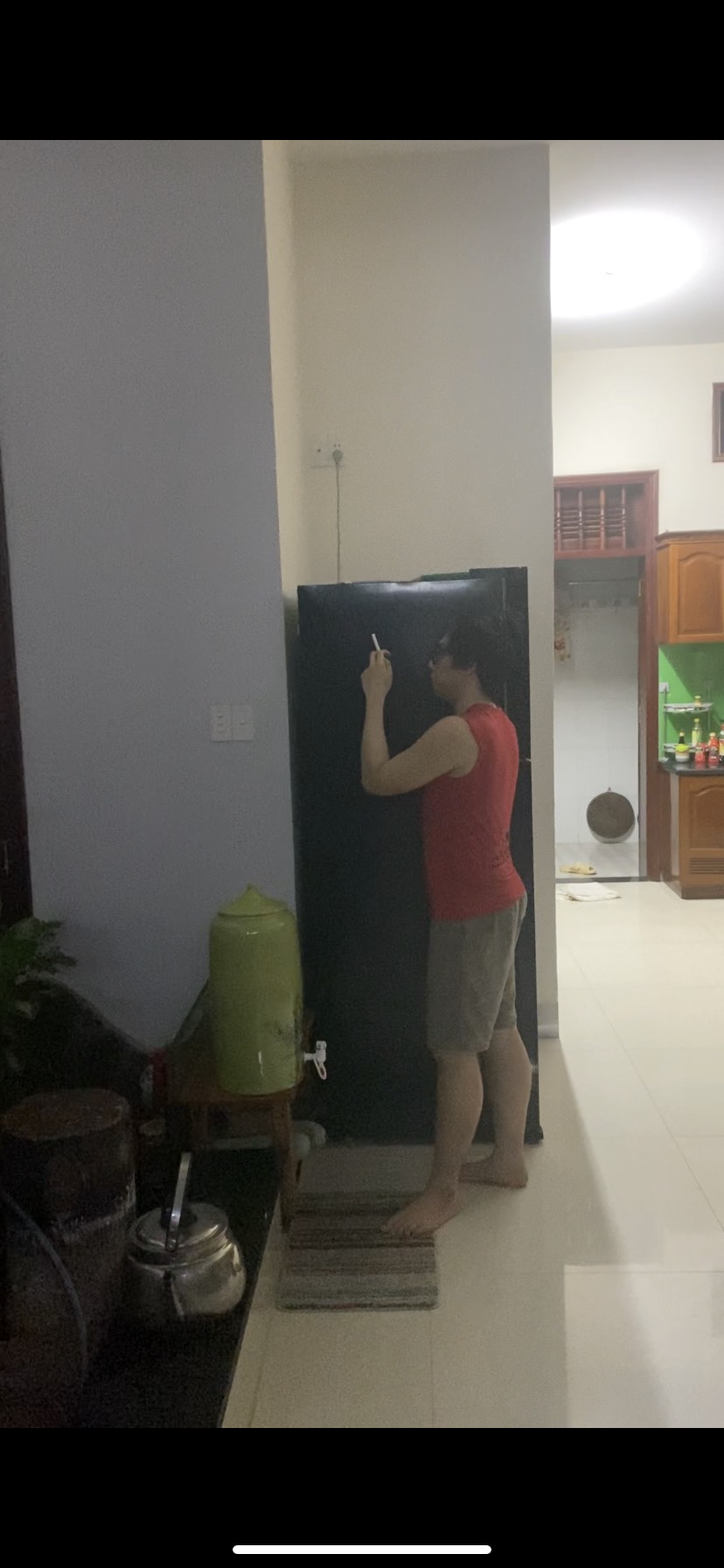cigarette: (368, 629, 383, 654)
person: (358, 573, 538, 1263)
